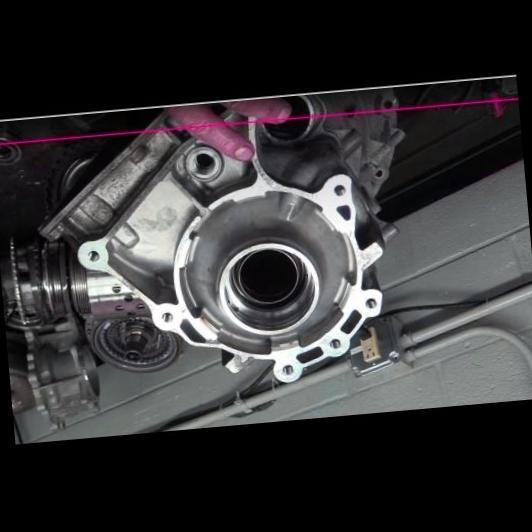hole: (330, 182, 346, 198), (85, 248, 100, 262), (363, 296, 378, 310), (280, 364, 294, 378), (158, 312, 174, 324), (328, 338, 342, 351)
